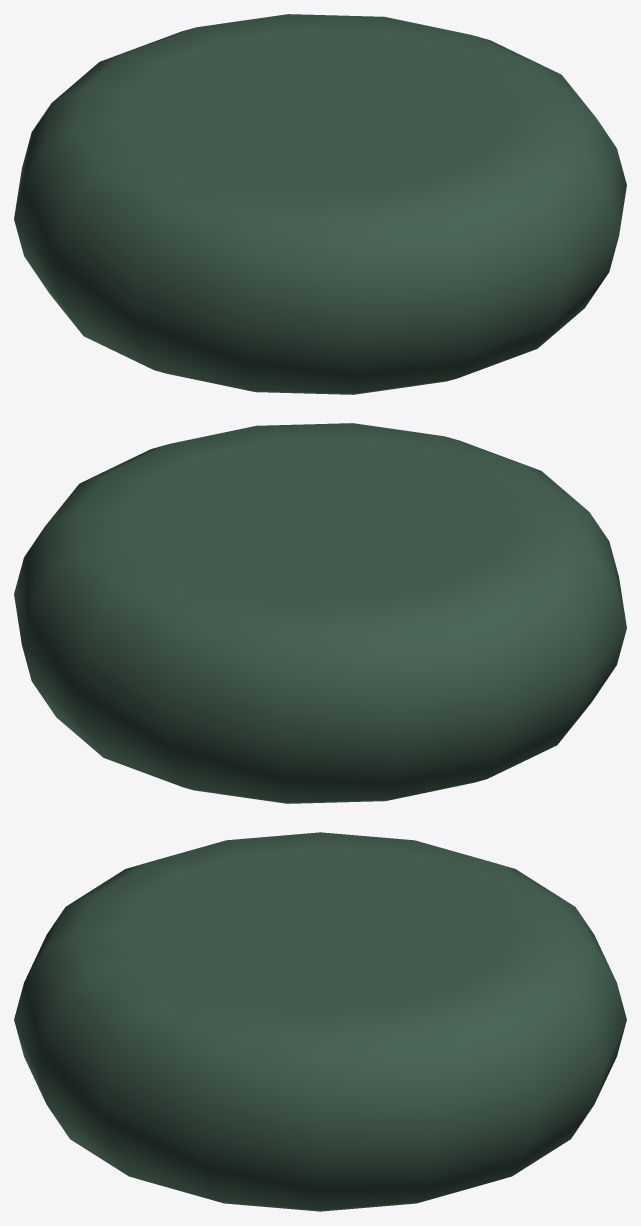
File: fbx_pillow_04.fbx
3 renders of one model, top to bottom at view 1: azimuth 30°, elevation 25°; view 2: azimuth 150°, elevation 25°; view 3: azimuth 270°, elevation 25°, orthographic.
Parts seen in each view (by area): view 1: Cylinder.002; view 2: Cylinder.002; view 3: Cylinder.002.
Part boxes in pixels (x1=…): Cylinder.002: x1=14, y1=14, x2=626, y2=394; Cylinder.002: x1=14, y1=423, x2=626, y2=803; Cylinder.002: x1=14, y1=832, x2=626, y2=1211.
Size of the model in its own units: 2.58 by 0.8268 by 2.58.
